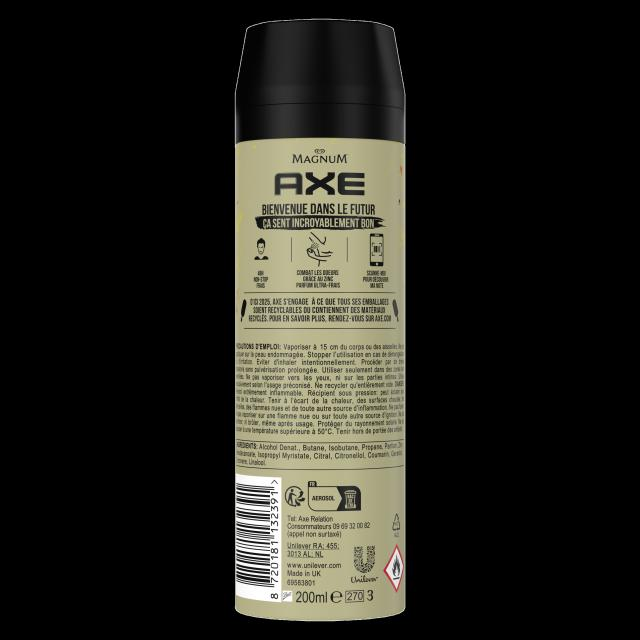GHS_Symbol_FLAME: (385, 545, 403, 592)
